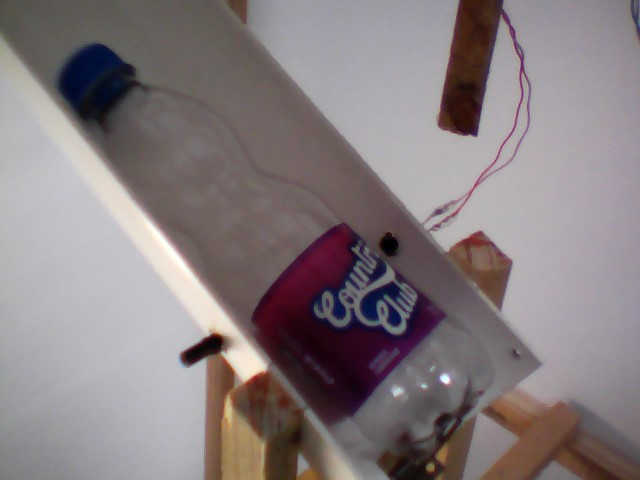plastico: (47, 37, 501, 480)
